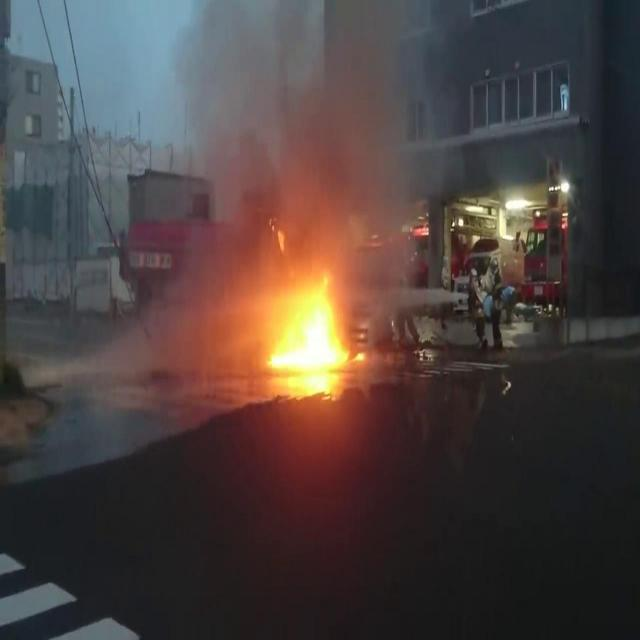fire: (264, 242, 352, 377)
